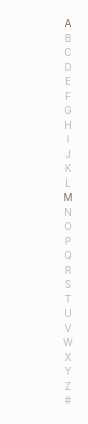
it: AlphabetStrip › drag interaction › floating indicator shows snapped letter, not raw letter
The width and height of the screenshot is (88, 424).
Press the mouse on the navigation bar with test id "alphabet-strip" at point(68, 212), box [60,16,76,408]
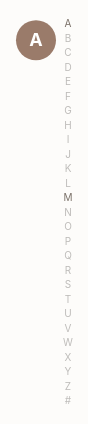
Result: the text with test id "alphabet-float-indicator" reads "A" at [29,29,43,50]
